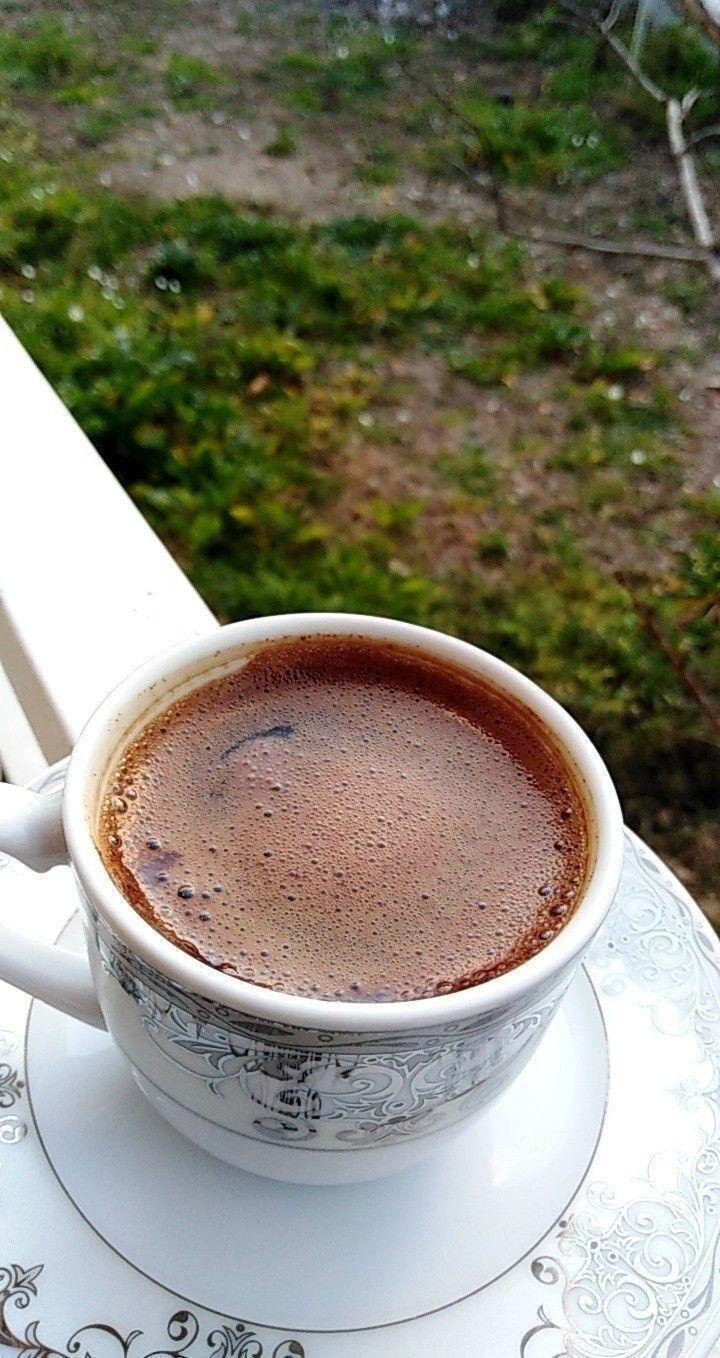cup-handle: (0, 608, 630, 1193)
